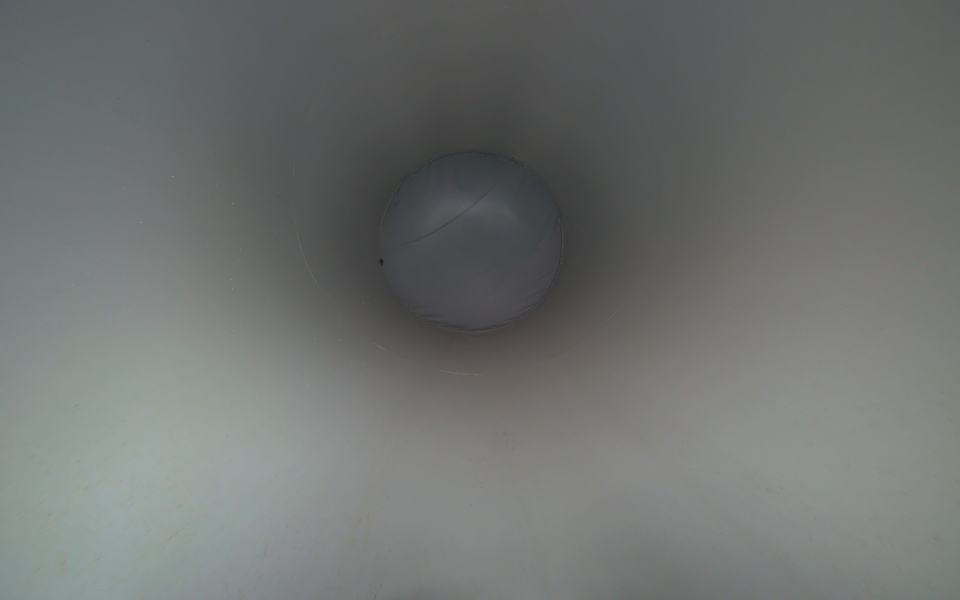circle2: (378, 148, 563, 337)
